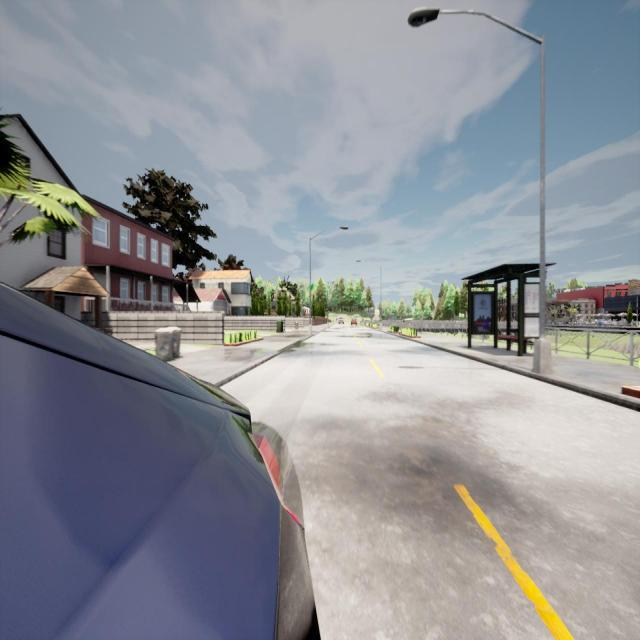Vehicle: (0, 283, 318, 638), (338, 317, 344, 325), (351, 318, 357, 326)
